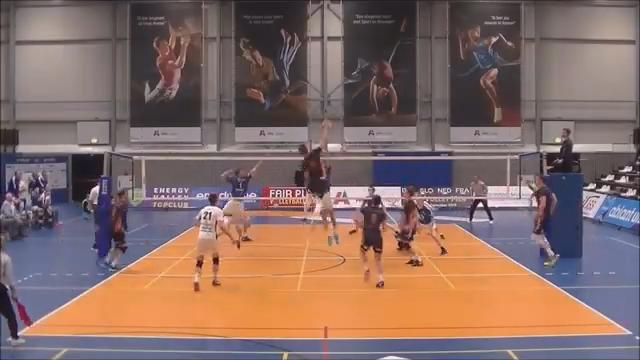attacco: (297, 118, 342, 249)
